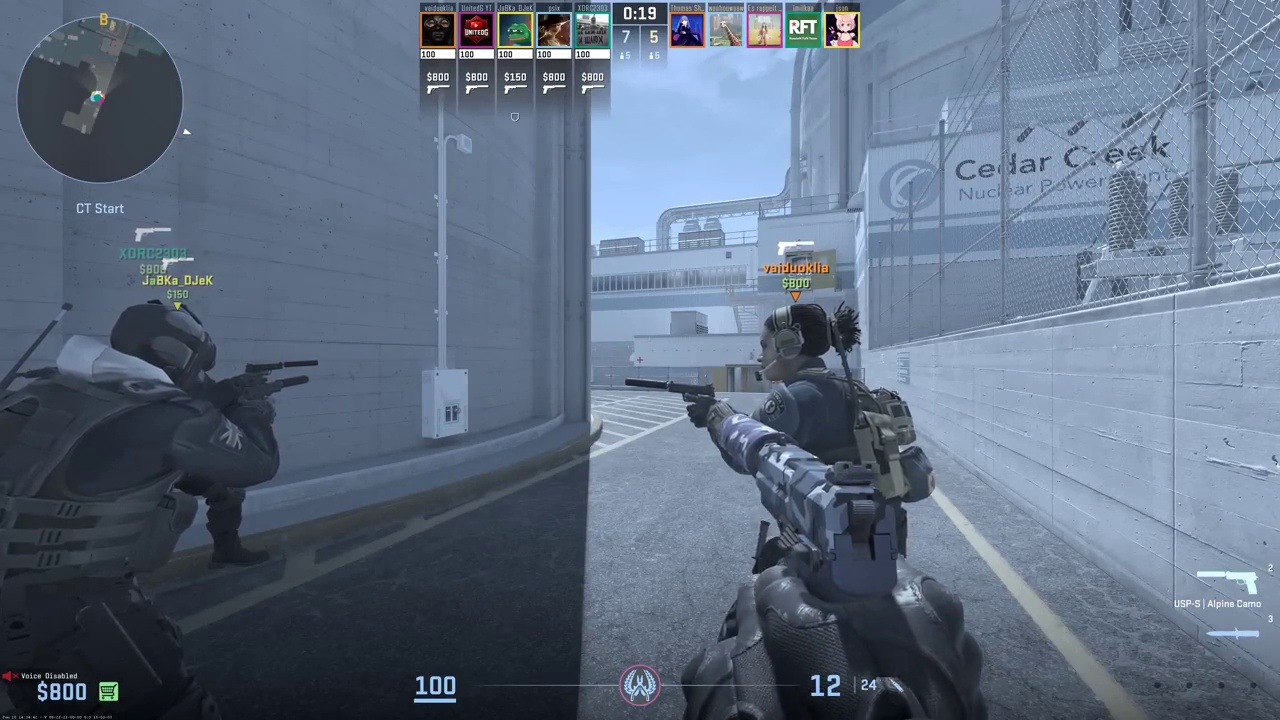CT: (7, 311, 261, 715), (720, 305, 906, 584)
